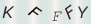F: (27, 6, 43, 17), (64, 4, 74, 20), (52, 10, 63, 21)
K: (2, 5, 14, 19)
Y: (76, 4, 90, 20)
